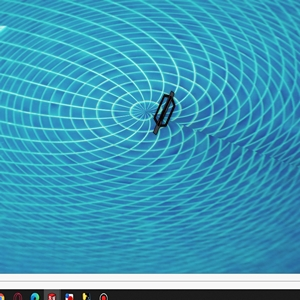submarine: (150, 91, 176, 133)
